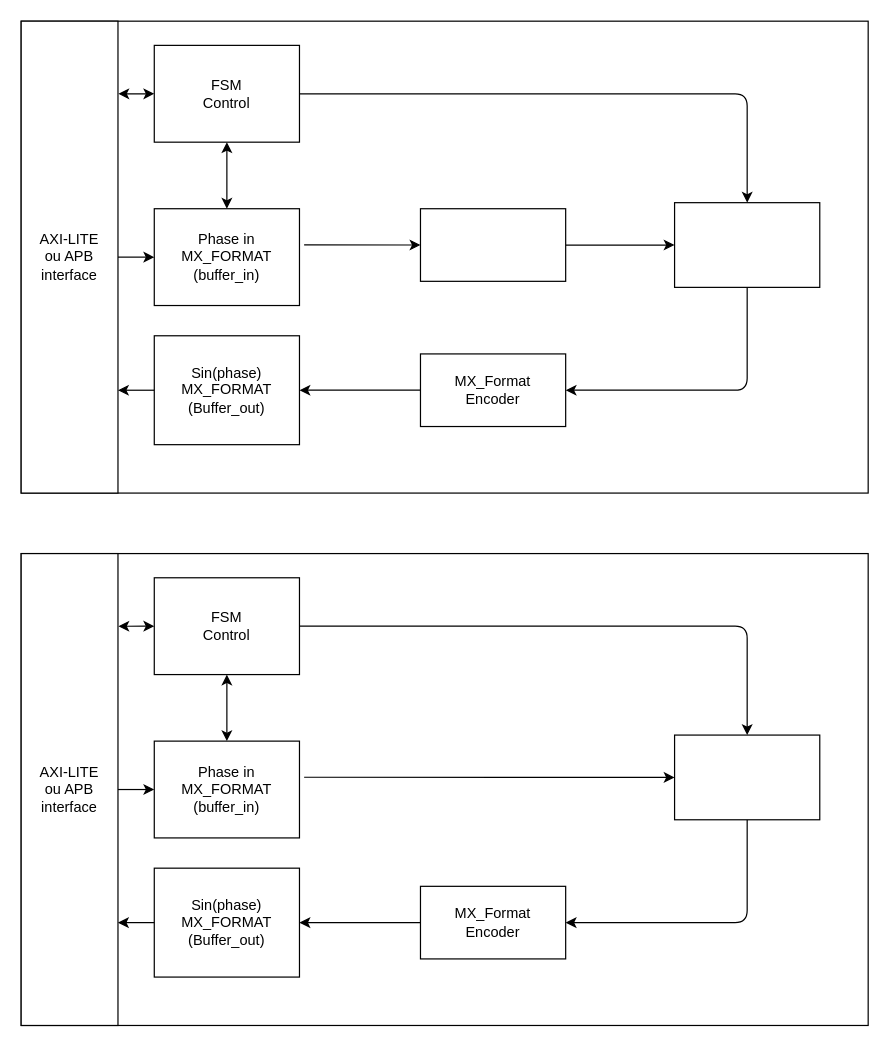
This 889x1047 diagram has some shape labels left out. The centre of each missing label's shape, as x and y in pixels:
"CORDIC" goes at pixel 746 244.
"LUT" goes at pixel 746 777.
"MX_Format Decoder" goes at pixel 492 244.
